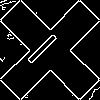I: (25, 25, 67, 67)
